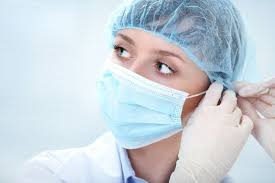mask: (95, 12, 208, 149)
